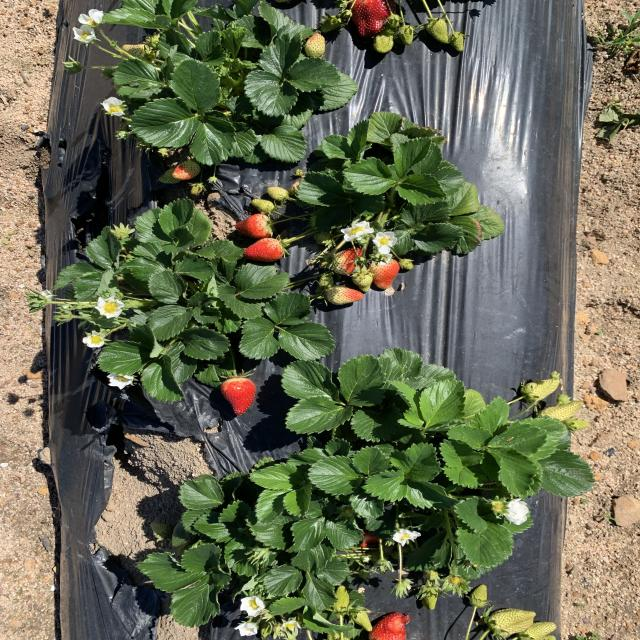unripe: (365, 605, 417, 640), (348, 0, 390, 41), (219, 376, 257, 416), (234, 212, 280, 240), (241, 237, 287, 261), (368, 257, 400, 290)
